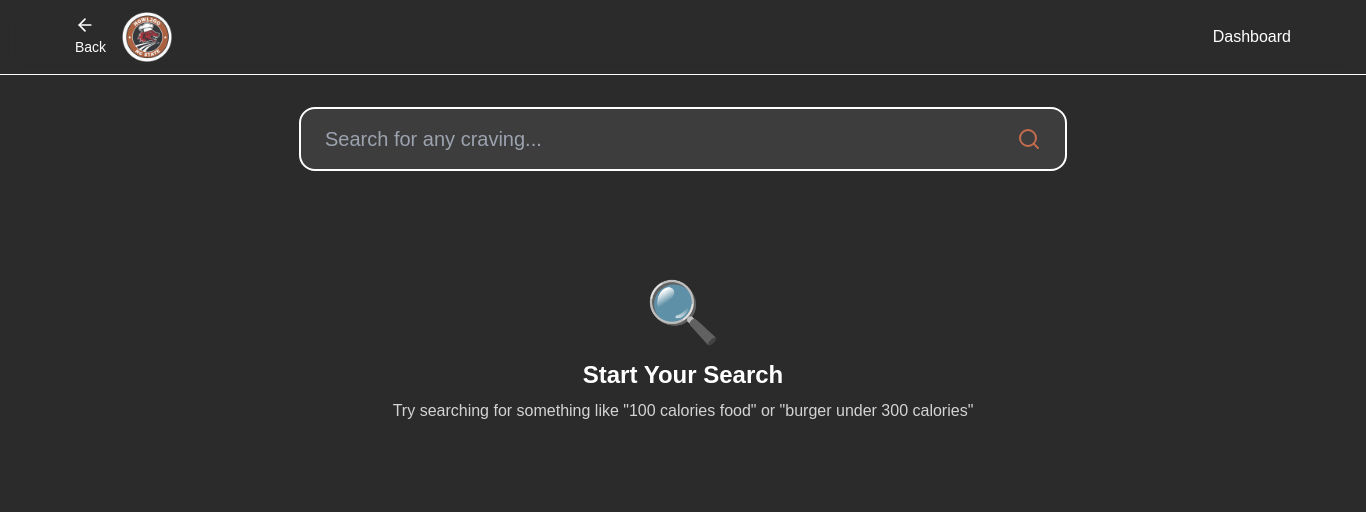
Test case: Search Page › API Integration › handles API errors gracefully
Step 1. Type "error" into the field named "Search for food" → (667, 139), box 325,125 -> 1009,153
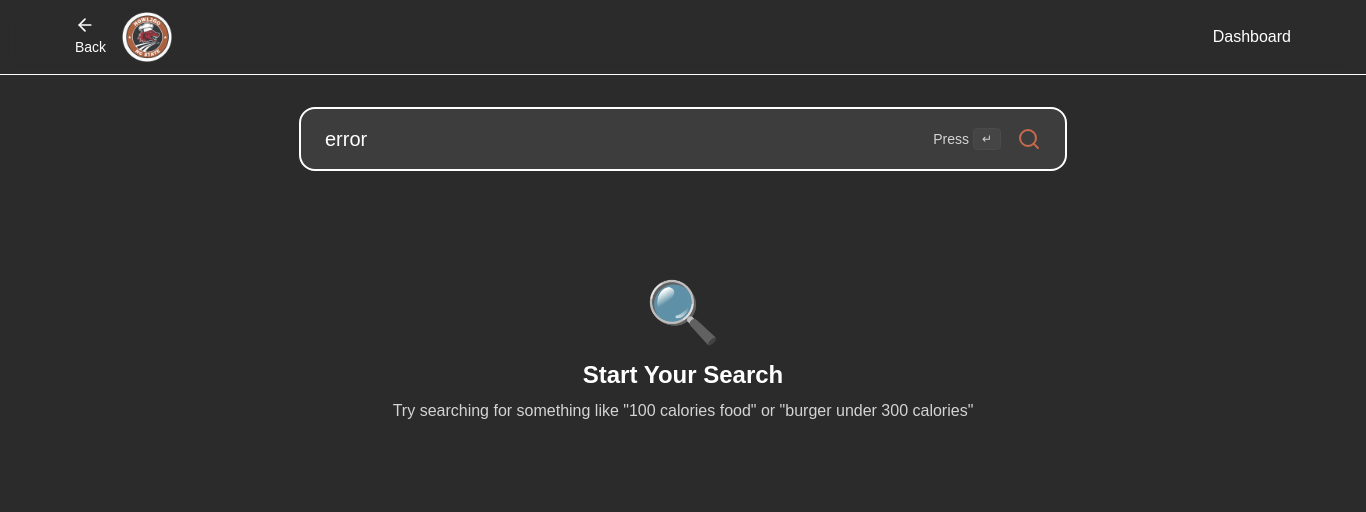
Step 2. Submit the form named "Search for food", box 299,107 -> 1067,171
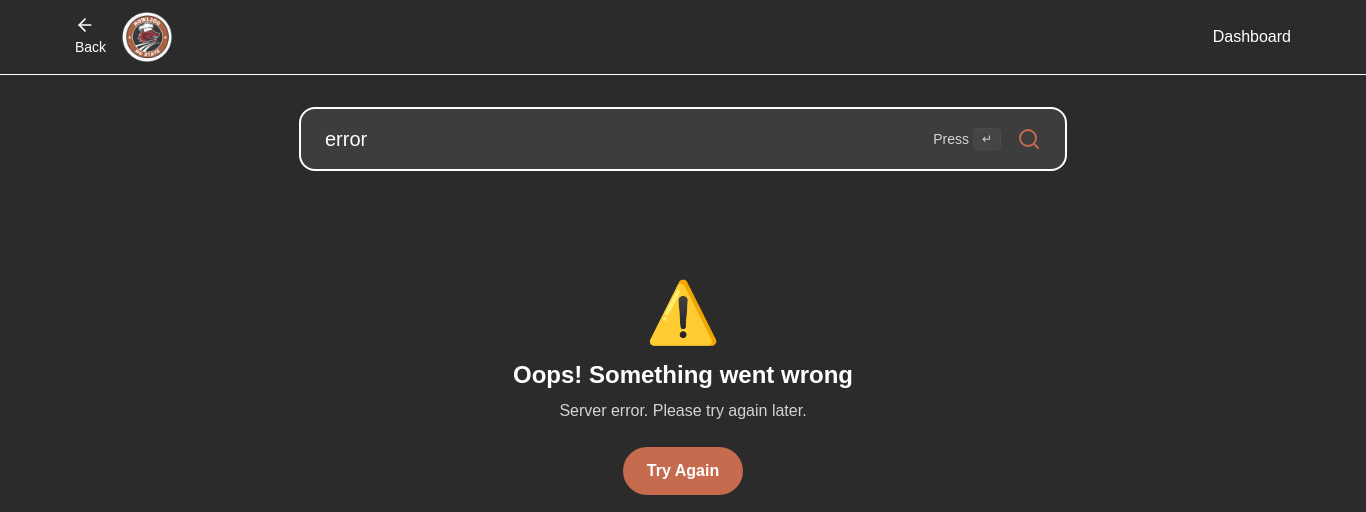
Now the text "Server error. Please try again later." is shown, box 559,402 -> 807,419
